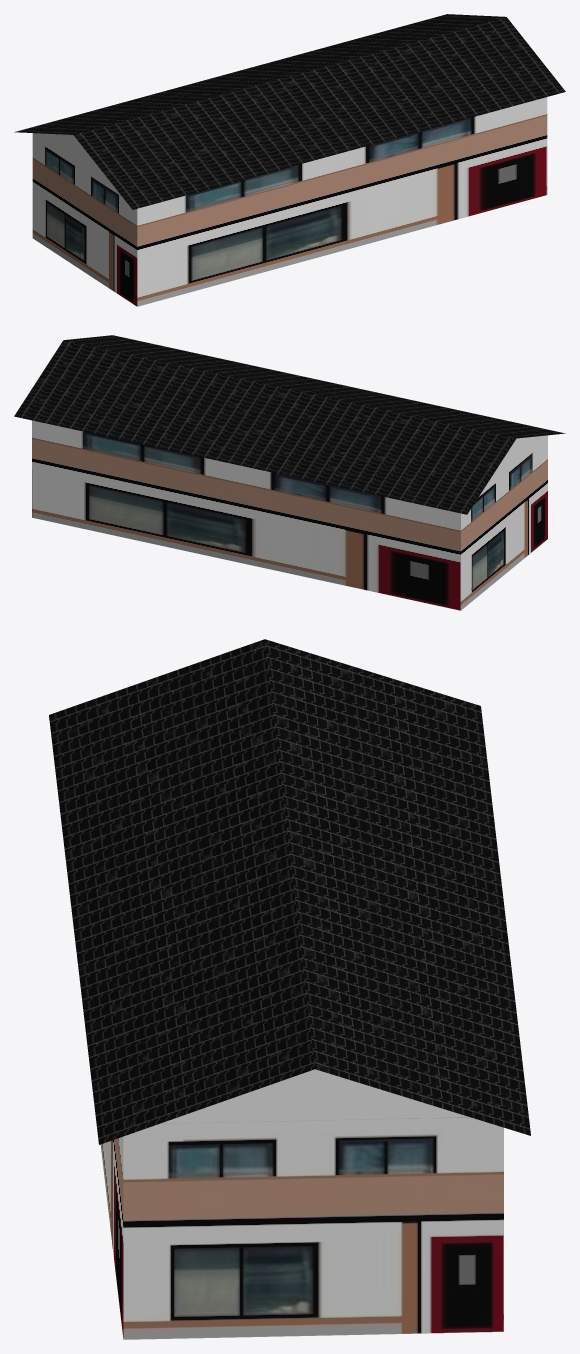
3 views of the same model, one above another, from view 1: azimuth 30°, elevation 25°; view 2: azimuth 150°, elevation 25°; view 3: azimuth 270°, elevation 25° (orthographic). The views are drawn at different scales.
Visible parts, largest first — view 1: CityEngineMaterial_5_m, CityEngineMaterial_14_m, CityEngineMaterial_3_m; view 2: CityEngineMaterial_5_m, CityEngineMaterial_14_m, CityEngineMaterial_3_m; view 3: CityEngineMaterial_14_m, CityEngineMaterial_5_m, CityEngineMaterial_3_m.
Part boxes in pixels (x1,y1,x2,y2): CityEngineMaterial_5_m: (32, 97, 547, 306); CityEngineMaterial_14_m: (14, 14, 565, 209); CityEngineMaterial_3_m: (39, 133, 106, 177); CityEngineMaterial_5_m: (32, 420, 547, 610); CityEngineMaterial_14_m: (14, 335, 565, 514); CityEngineMaterial_3_m: (491, 436, 541, 477); CityEngineMaterial_14_m: (49, 639, 530, 1144); CityEngineMaterial_5_m: (100, 1117, 503, 1339); CityEngineMaterial_3_m: (160, 1069, 469, 1123).
Size of the model in its own units: 37.87 by 11.19 by 17.58.
